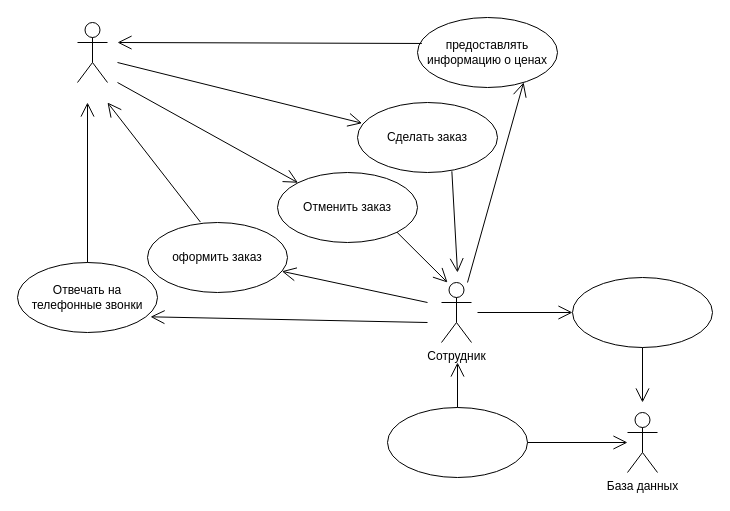
The diagram is 730 pixels wide and 511 high, and some of its shapes have lost their labels. The centre of each missing label's shape, as x and y in pixels:
"Клиент" goes at point 92,52.
"проверить наличие клиента в базе" goes at point 642,312.
"сохранить заказ в БД" goes at point 457,442.
